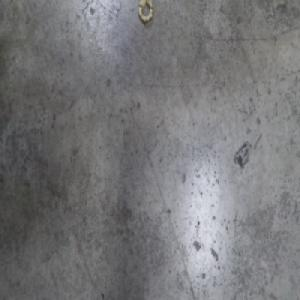Nut: (137, 0, 153, 27)
